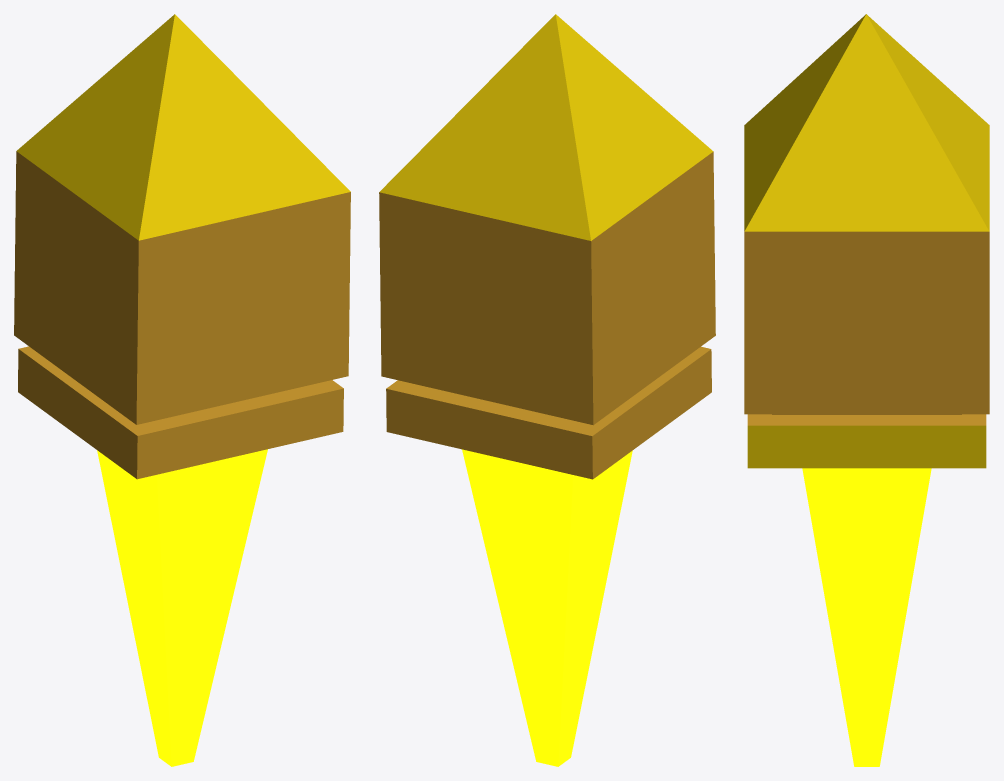
File: player_bullet.fbx
The picture shows the model from 3 angles, left to right: view 1: azimuth 30°, elevation 25°; view 2: azimuth 150°, elevation 25°; view 3: azimuth 270°, elevation 25°; orthographic projection.
Parts seen in each view (by area): view 1: Cube; view 2: Cube; view 3: Cube.
Part boxes in pixels (x1,y1,x2,y2): Cube: (14, 14, 350, 766); Cube: (379, 14, 715, 766); Cube: (744, 14, 989, 766).
Bounding box in the file's own units: 86.45 × 288 × 85.53.
